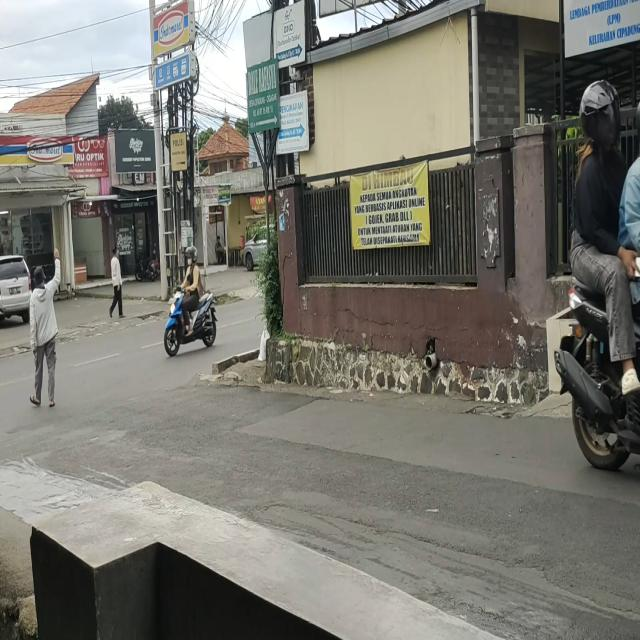helmet: (582, 86, 620, 151), (184, 245, 198, 266)
